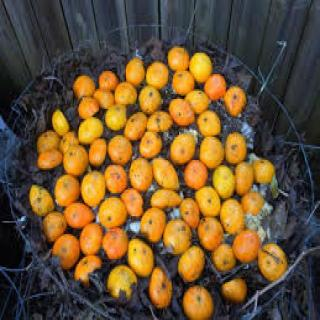orange: (187, 47, 213, 87)
